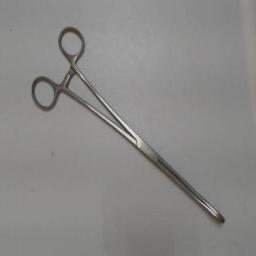Sponge Forceps: (26, 20, 228, 232)
